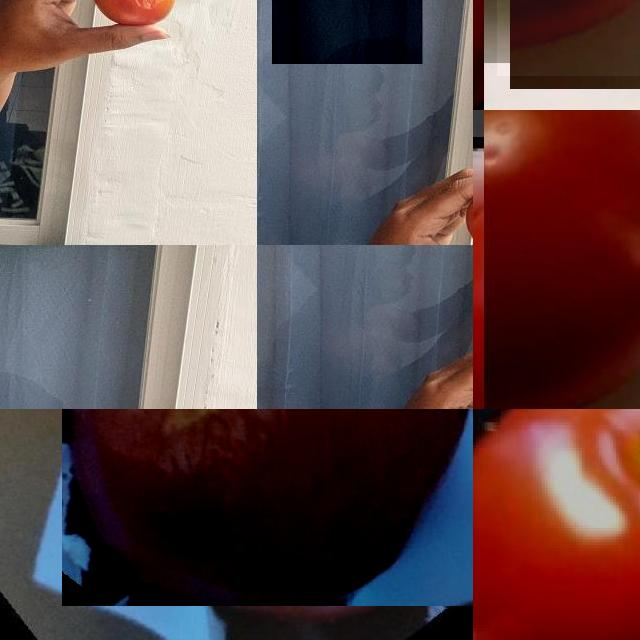1: (62, 409, 473, 606)
Fresh Tomato: (484, 110, 640, 409), (473, 409, 640, 640), (272, 0, 422, 64)
